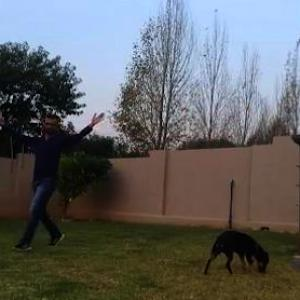takeoff: (0, 110, 119, 254)
